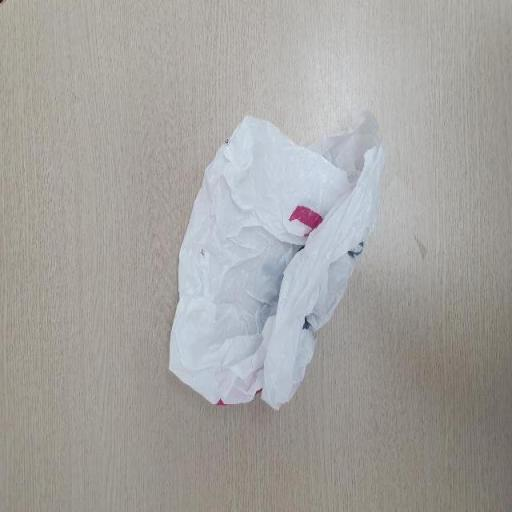plastic-bag: (162, 106, 382, 414)
